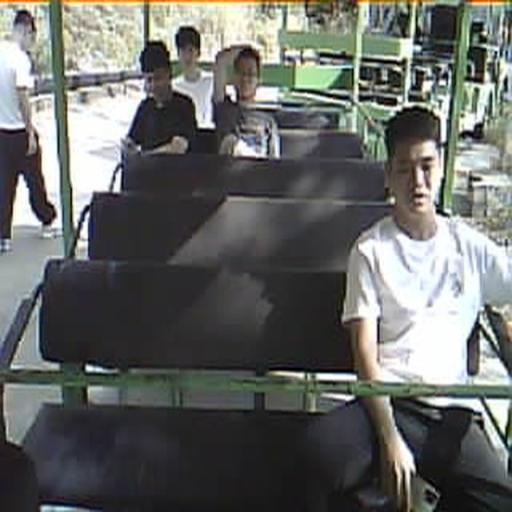persona: (308, 103, 511, 510), (122, 39, 198, 156), (214, 46, 282, 160), (170, 25, 222, 130)
